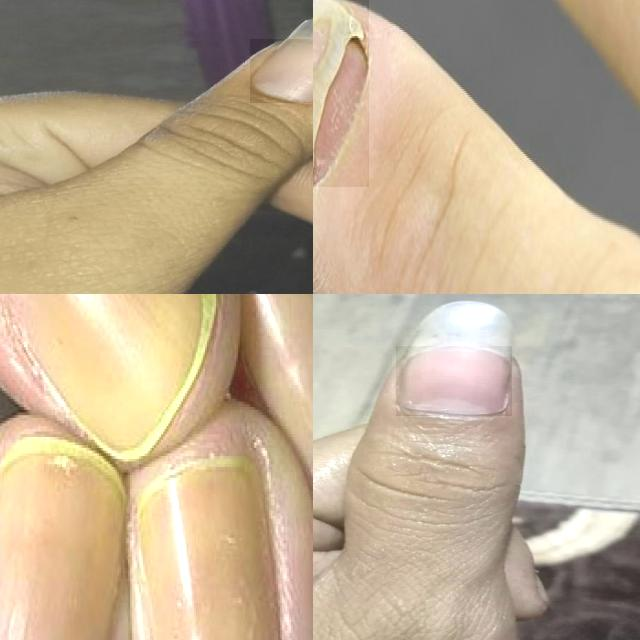diabetes: (3, 294, 208, 456), (136, 461, 278, 640), (0, 454, 124, 640), (241, 294, 313, 470), (313, 0, 369, 179)
sehat: (396, 347, 512, 416), (251, 39, 313, 103)
